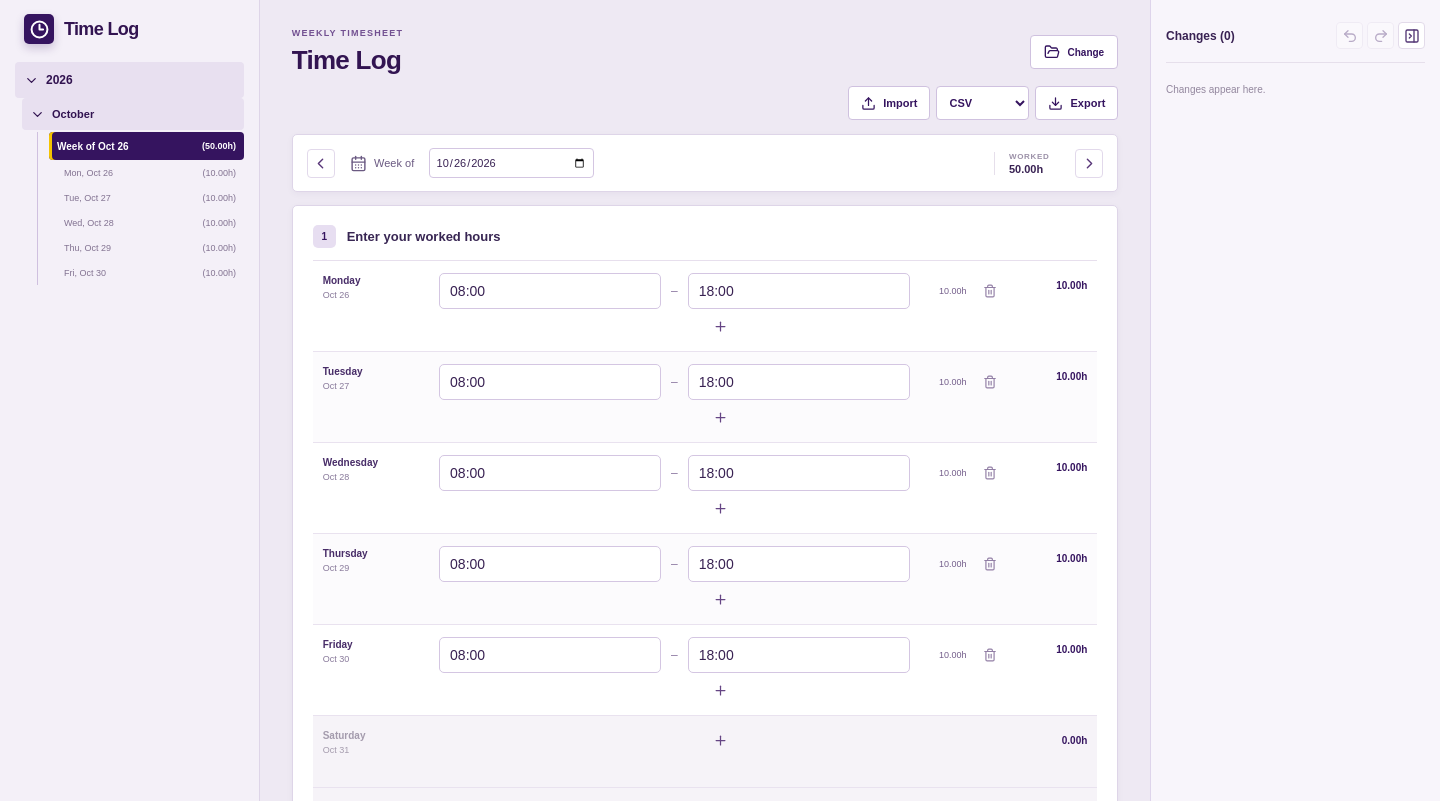
Test: App import and export › imports a CSV as undoable, persisted changes
Type "2026-01-05" into the date field named "Choose Week".
click(511, 163); type("2026-01-05")  # box [429,148,594,178]
Wait 350 ms
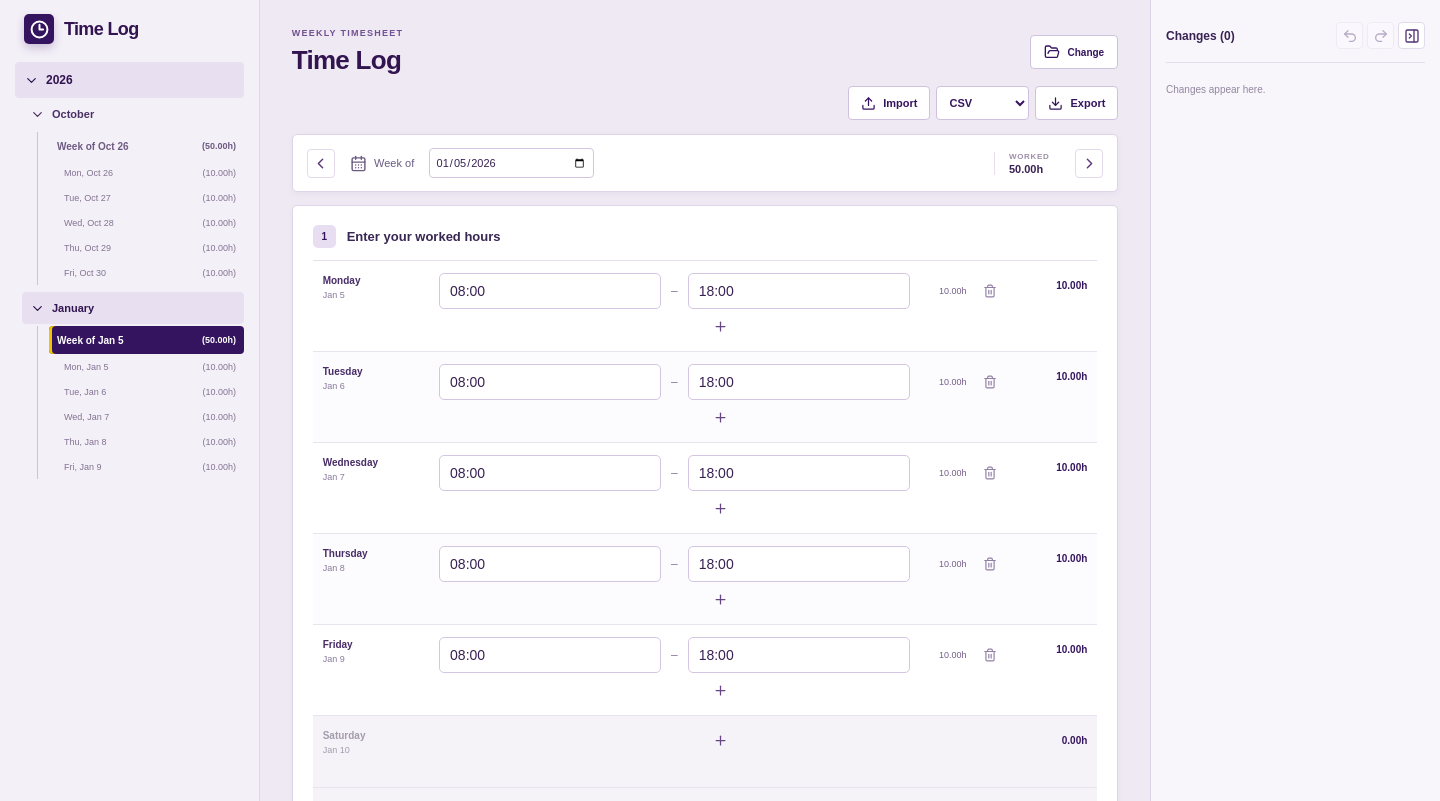
Click the button titled "Import Hours".
click(889, 103)  # box [848,86,930,120]
Wait 350 ms
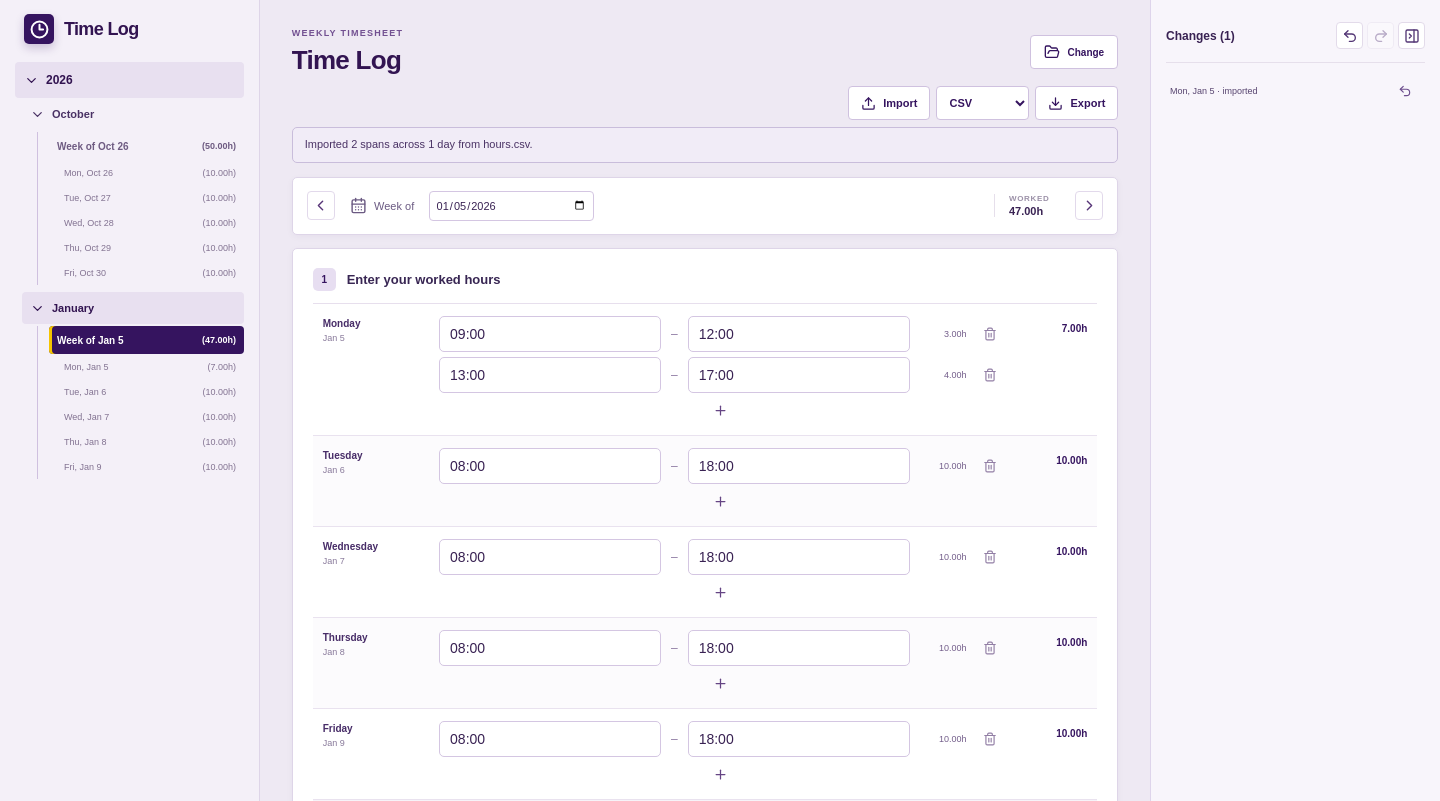
Expected: the message shows "Imported 2 spans across 1 day from hours.csv", [305,138,532,150]
Expected: the field named "Monday Span 1 End Time" holds "12:00", [688,316,910,352]
Expected: the field named "Monday Span 2 Start Time" holds "13:00", [439,357,661,393]
Click the button named "Undo".
click(1350, 36)  # box [1336,22,1363,49]
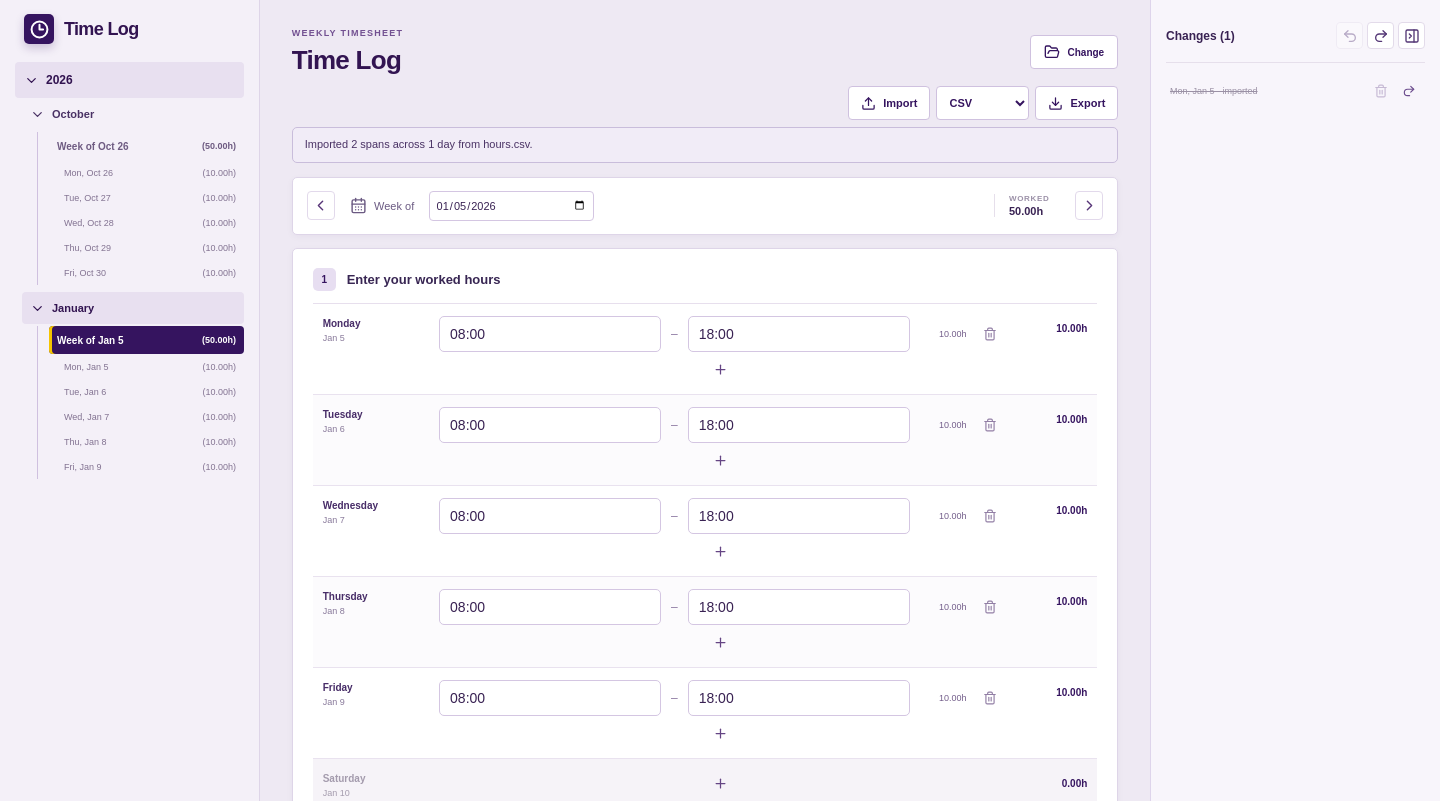
Expected: the field named "Monday Span 1 End Time" holds "18:00", [688,316,910,352]
